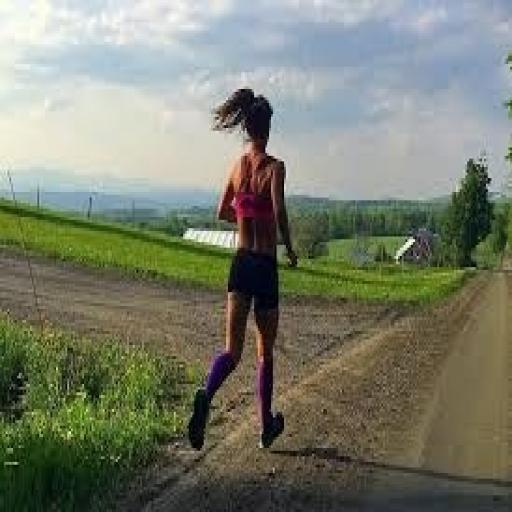running: (185, 84, 301, 454)
